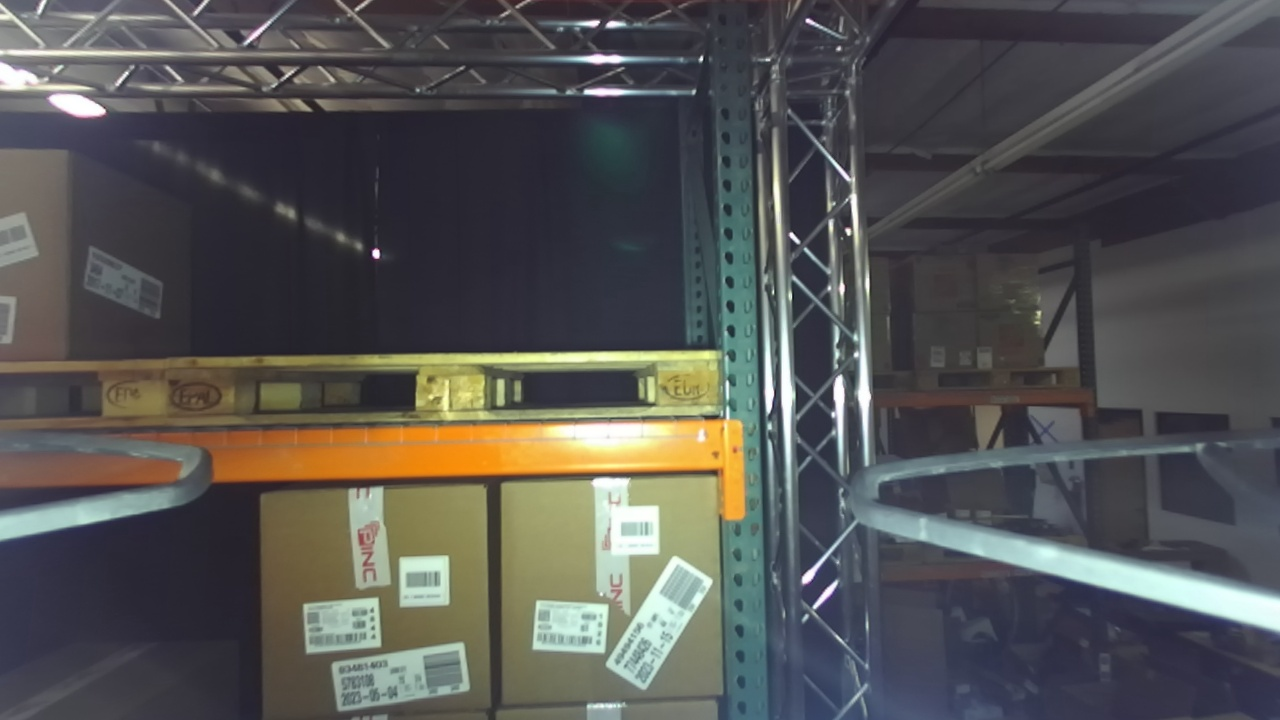box: (469, 452, 747, 720), (227, 470, 510, 720)
